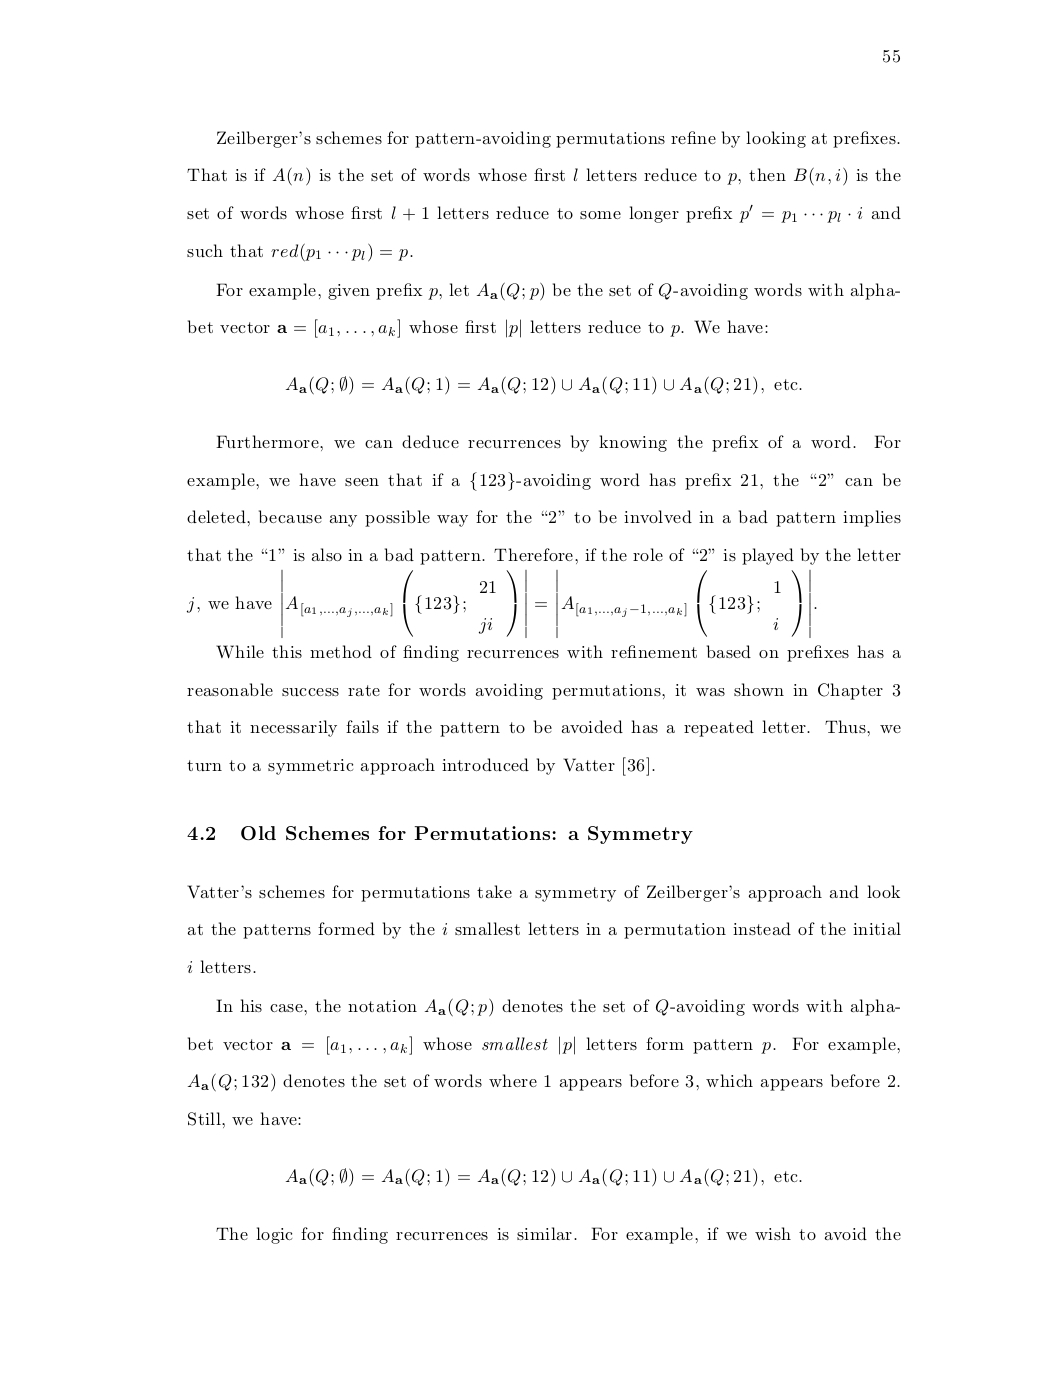formula: (186, 568, 816, 637), (285, 374, 801, 395), (285, 1167, 801, 1187)
